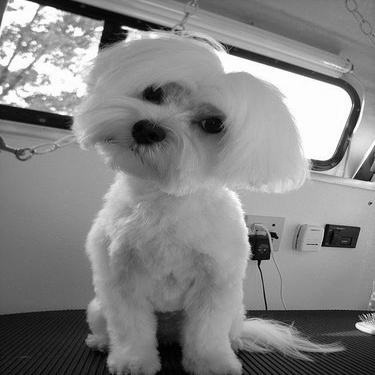dog: (57, 23, 348, 371)
